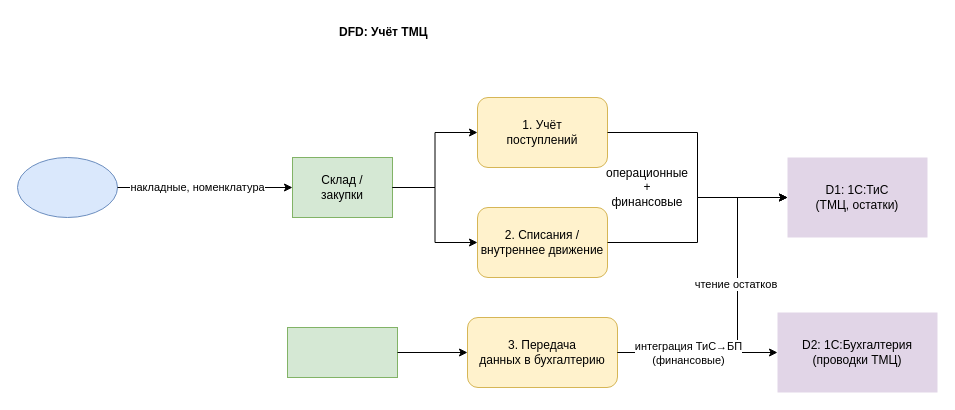
The diagram is 955 pixels wide and 410 high, and some of its shapes have lost their labels. Here are the shapes that lost their labels. From the top down, the centre of each, then its label:
At (67,187): "Поставщик".
At (342,352): "Бухгалтерия".
